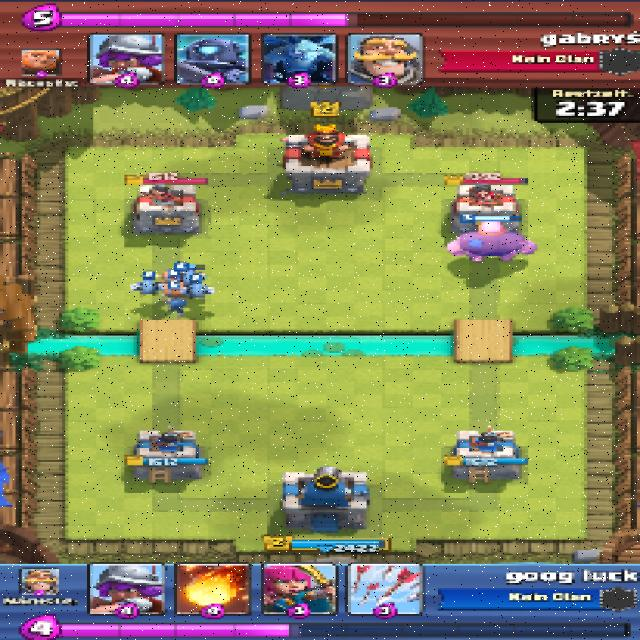Player-Giant: (443, 221, 538, 263)
Player-Minion: (181, 281, 215, 300), (176, 268, 203, 284), (136, 279, 161, 295)
Player-Wallbreaker: (164, 286, 192, 316), (163, 269, 185, 289)
